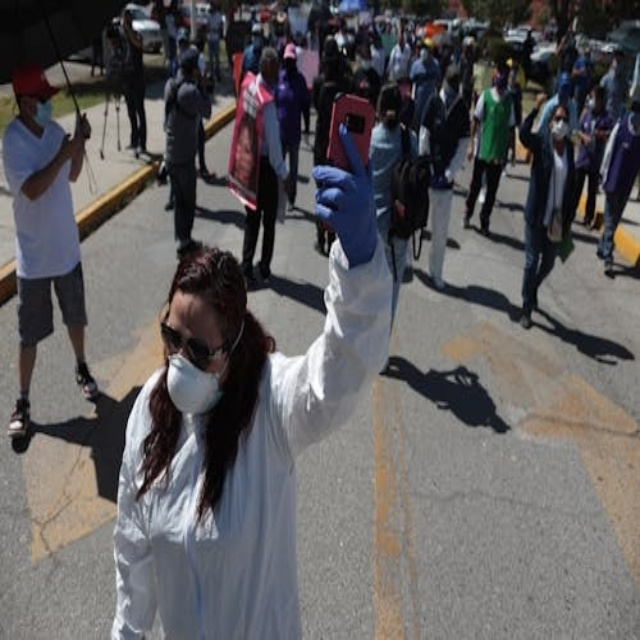Gafas: (159, 294, 247, 365)
Guantes: (312, 125, 379, 268)
Mascara: (165, 336, 233, 415), (32, 98, 53, 125), (262, 62, 279, 88), (551, 119, 567, 138), (384, 111, 397, 129), (284, 59, 297, 75), (627, 112, 638, 130), (252, 37, 262, 51), (360, 59, 372, 70), (586, 97, 595, 109), (610, 61, 618, 73), (420, 50, 428, 61)
Sin_guantes: (79, 114, 91, 139)
